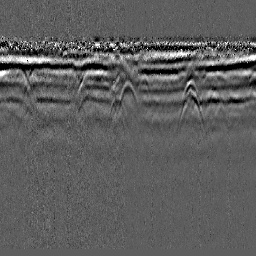cavity: (118, 77, 138, 104)
